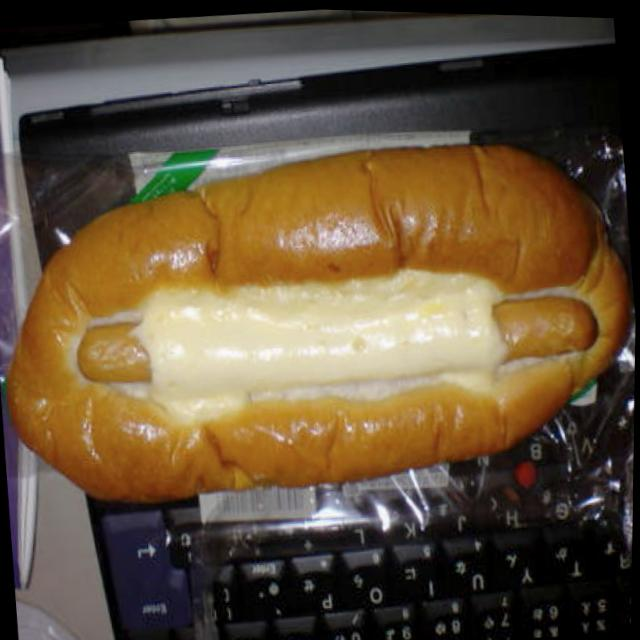三明治: (0, 118, 639, 533)
